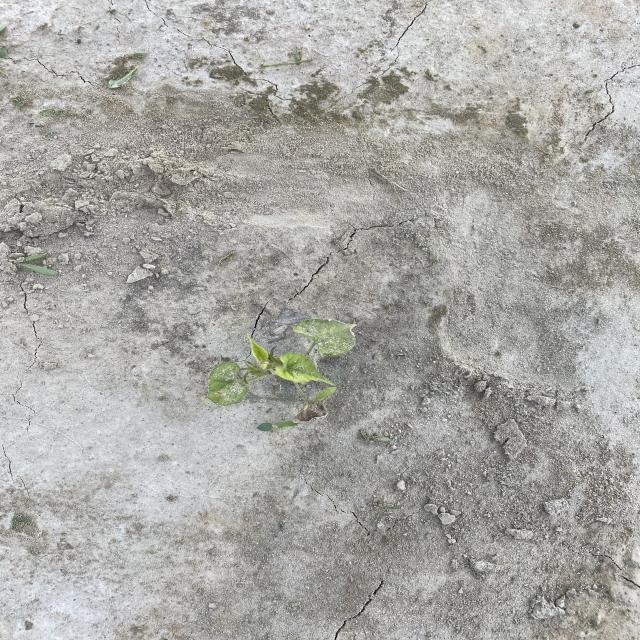MorningGlory: (195, 316, 361, 417)
